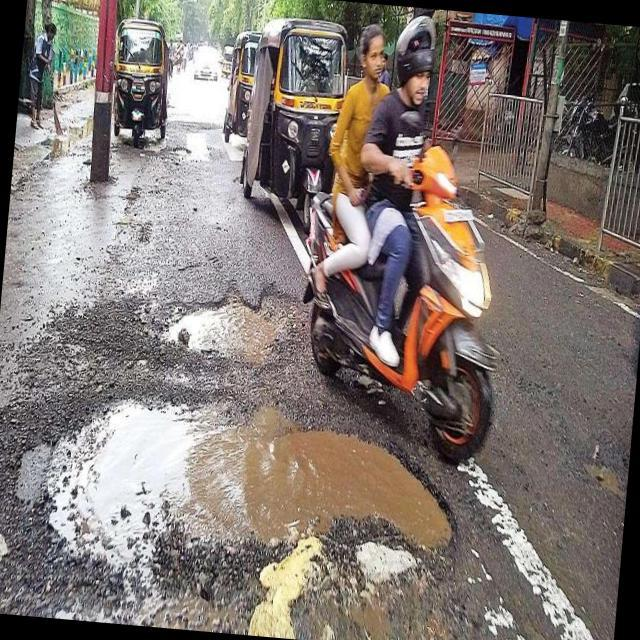Pothole: (45, 401, 451, 636), (163, 303, 277, 364)
